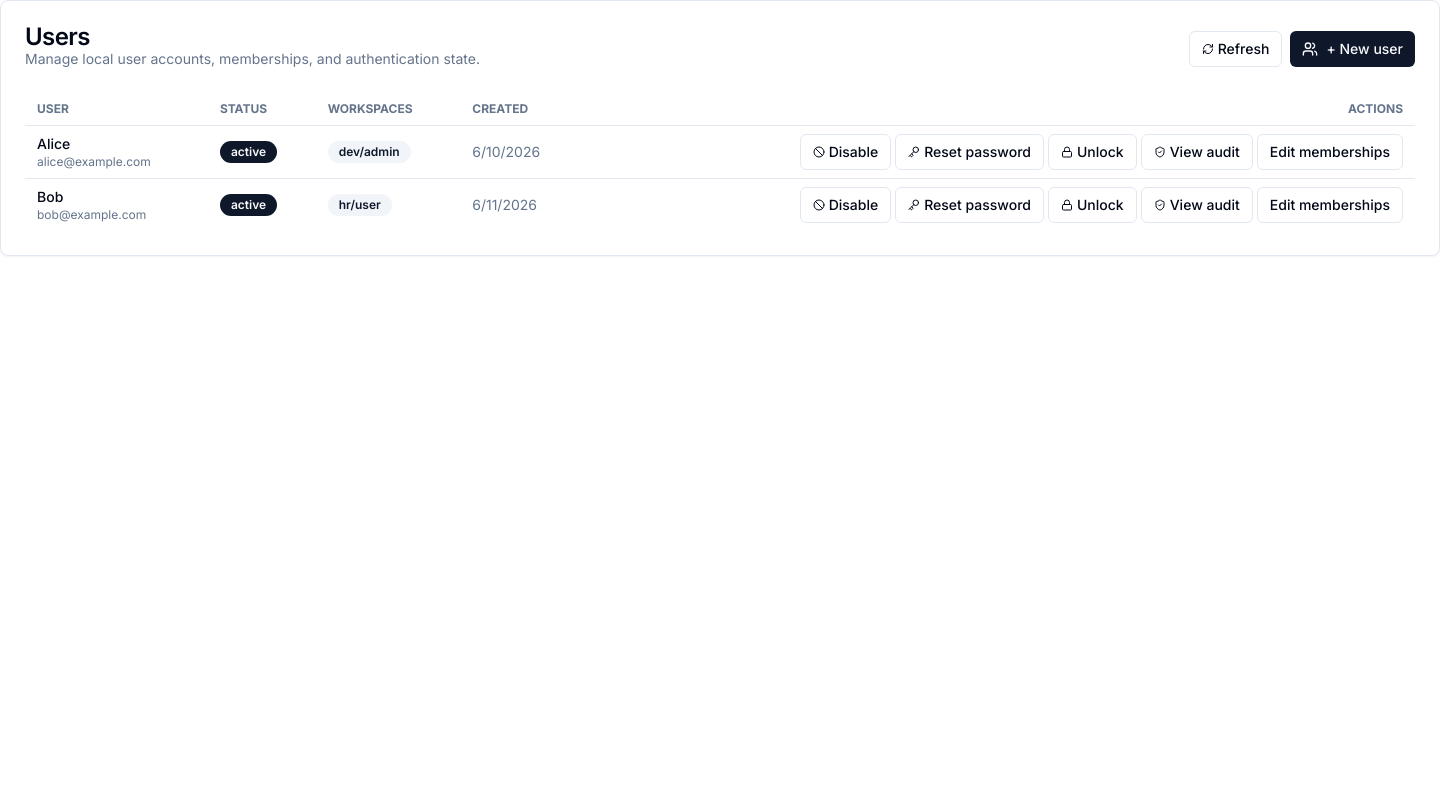
Test case: UsersPanel › opens the audit drawer when View audit is clicked
Click the button with test id "admin-view-audit-user-1": [1197, 152] box [1141, 134, 1253, 170]
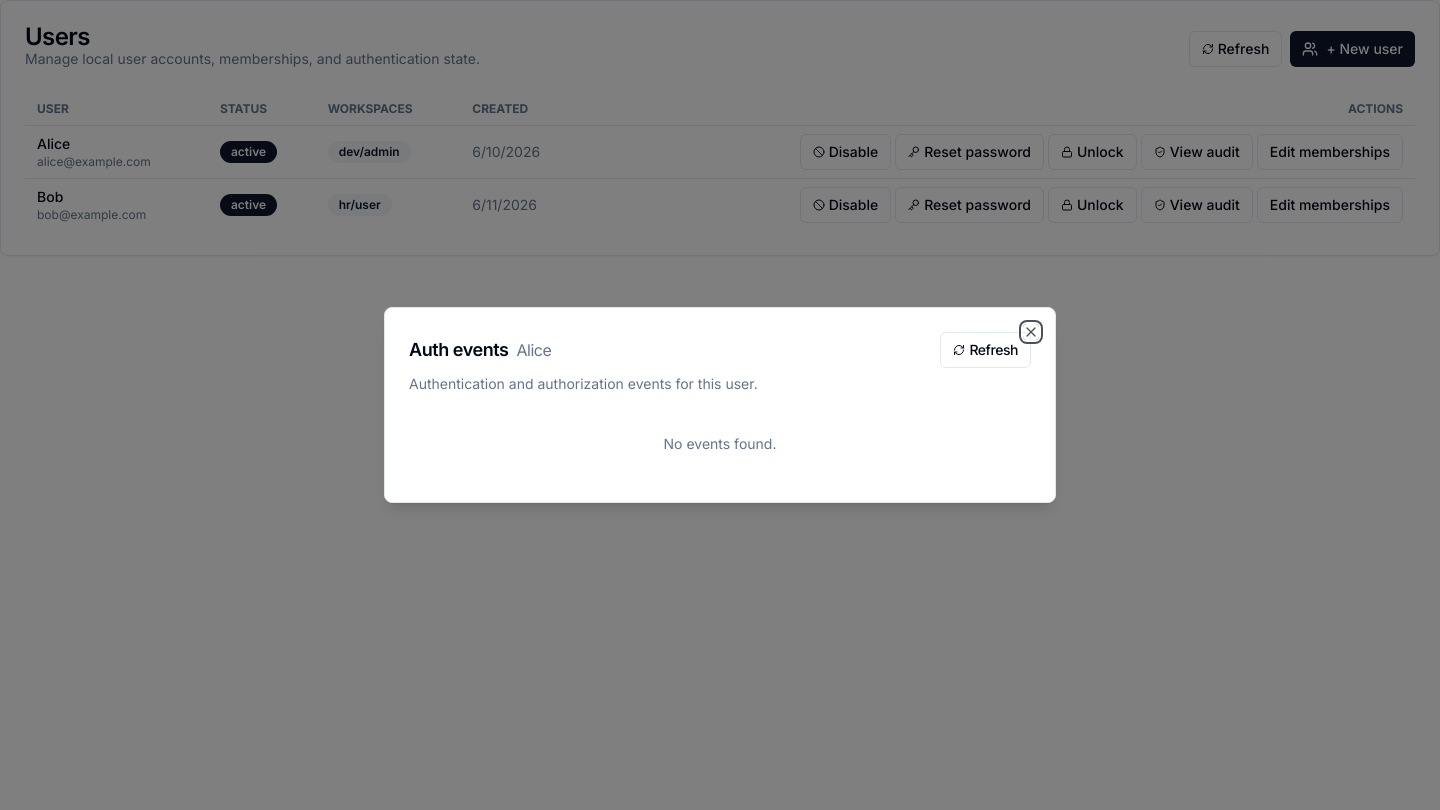
Expected: the dialog with test id "user-audit-drawer" is shown, [384, 307, 1056, 503]
